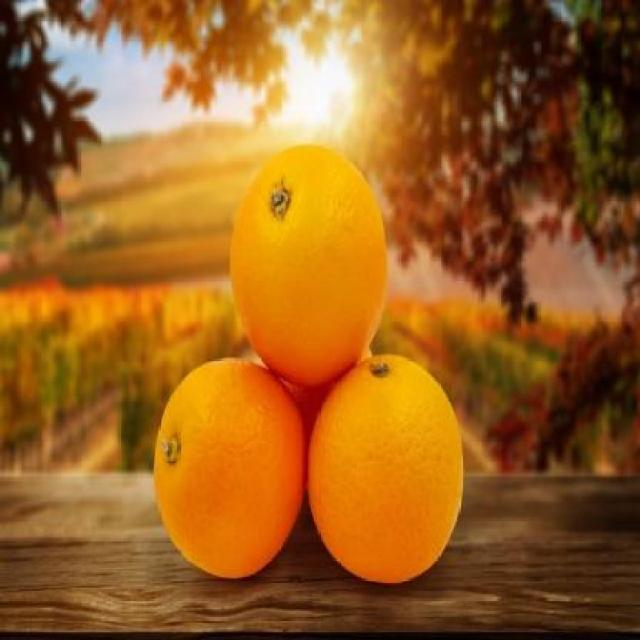Orange: (228, 142, 388, 386), (306, 352, 465, 585), (151, 356, 306, 578)
